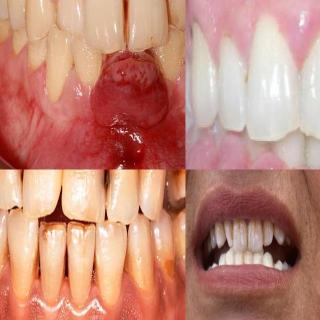Gum Swelling: (231, 0, 320, 70), (96, 57, 166, 139), (33, 64, 88, 122), (108, 270, 160, 320), (76, 278, 108, 320), (17, 280, 48, 319), (48, 280, 77, 320), (0, 261, 18, 311), (177, 69, 186, 113)
calculus: (212, 22, 242, 54), (186, 16, 203, 40)
cavities: (94, 170, 116, 198), (12, 170, 36, 183)
maligned: (41, 23, 77, 102), (51, 0, 85, 41), (232, 212, 250, 255), (247, 213, 265, 250), (166, 0, 186, 32), (262, 219, 276, 250), (221, 218, 233, 248), (232, 246, 244, 268), (253, 248, 264, 268), (225, 246, 235, 266), (243, 247, 253, 267)
stains: (116, 0, 134, 49), (161, 0, 185, 31), (260, 225, 266, 246), (230, 225, 236, 242), (271, 222, 276, 235), (222, 225, 226, 239)
